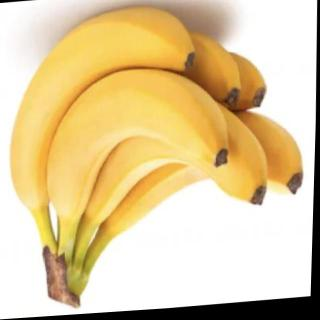banana: (6, 2, 200, 214), (43, 61, 235, 221), (98, 104, 310, 236), (76, 84, 274, 224)
